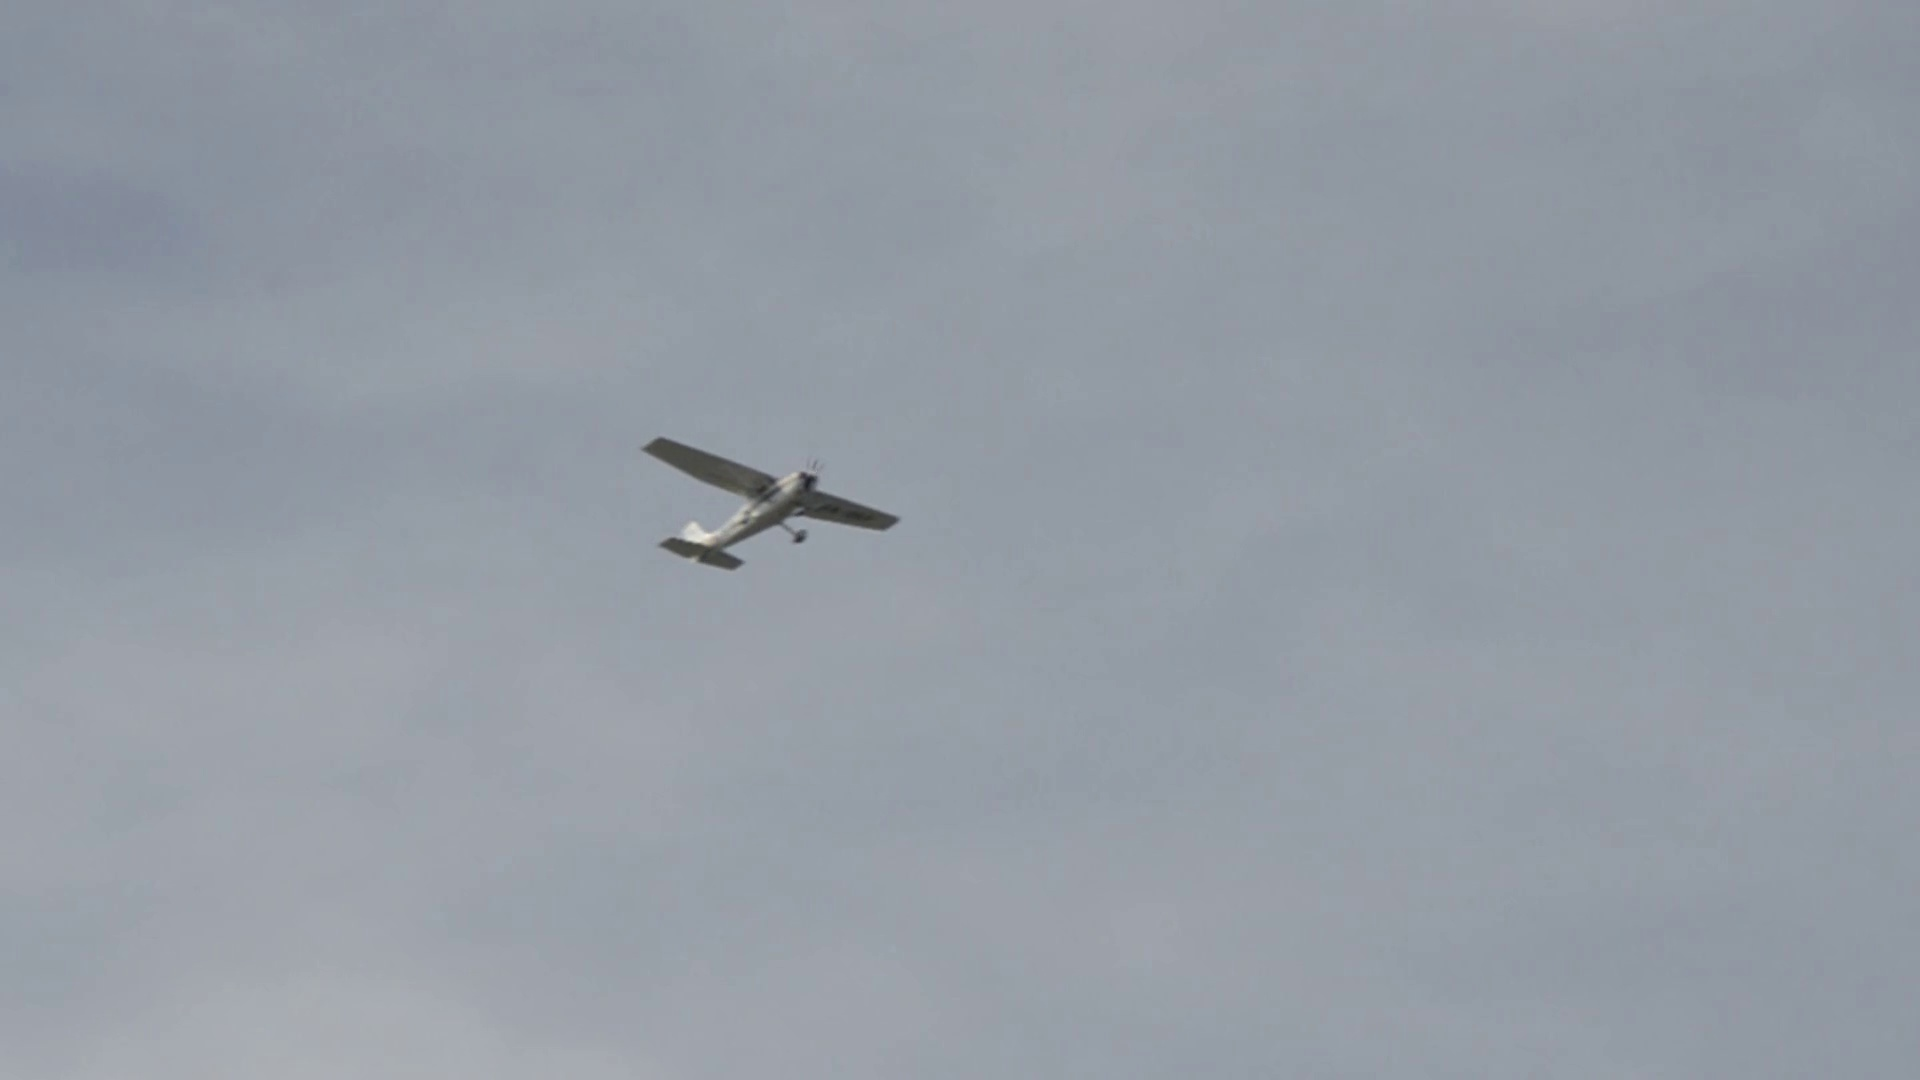plane: (642, 434, 902, 570)
